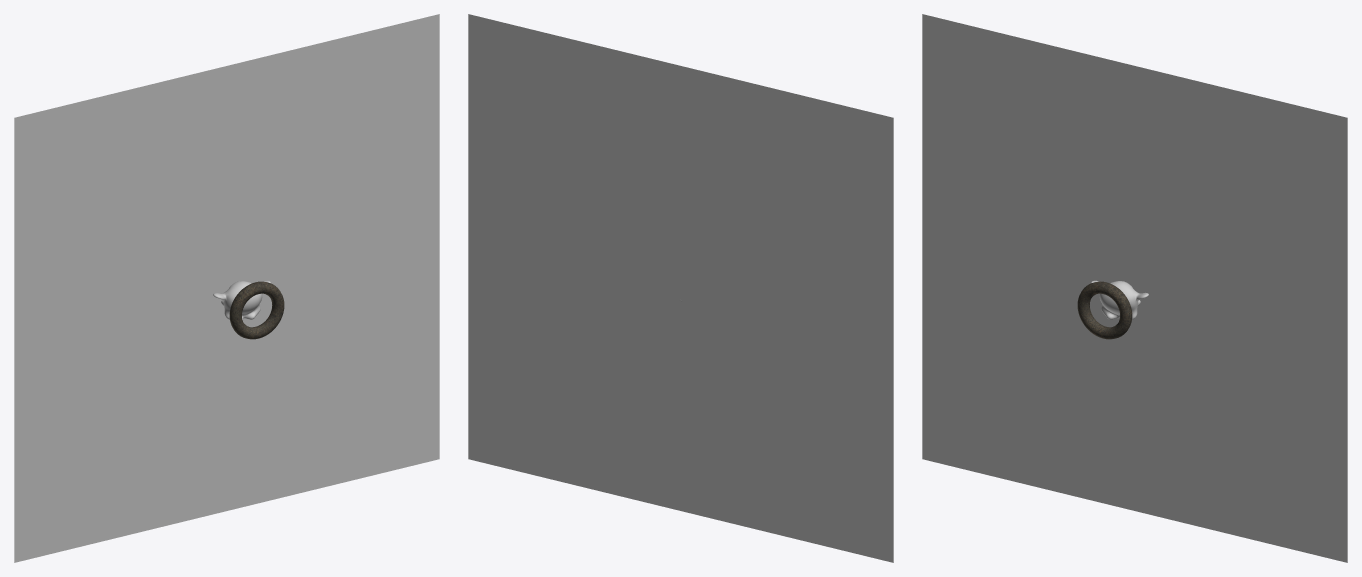
Rendered from testScene.gltf.
3 views of the same model, side by side, from view 1: azimuth 30°, elevation 25°; view 2: azimuth 150°, elevation 25°; view 3: azimuth 330°, elevation 25° (orthographic).
Parts seen in each view (by area): view 1: Plane, Torus, Suzanne; view 2: Plane; view 3: Plane, Torus, Suzanne.
Part boxes in pixels (box(x1,y1,x2,y2)): Plane: box(14, 14, 439, 562); Torus: box(229, 281, 284, 339); Suzanne: box(213, 280, 270, 320); Plane: box(468, 14, 893, 562); Plane: box(922, 14, 1347, 562); Torus: box(1077, 281, 1132, 339); Suzanne: box(1091, 280, 1148, 320).
Bounding box in the file's own units: 20 × 20 × 2.7.
